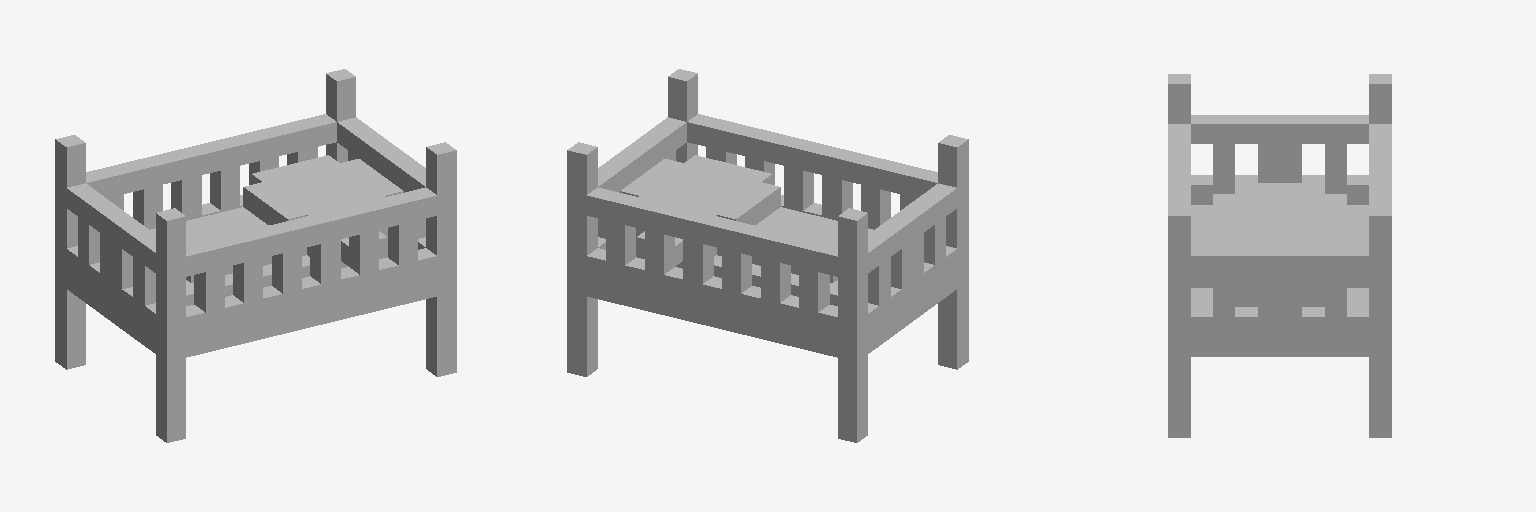
Rendered from obj_cradle_baby.obj.
3 views of the same model, side by side, from view 1: azimuth 30°, elevation 25°; view 2: azimuth 150°, elevation 25°; view 3: azimuth 270°, elevation 25° (orthographic).
Visible parts, largest first — view 1: obj_cradle_baby; view 2: obj_cradle_baby; view 3: obj_cradle_baby.
Boxes of the visible parts, x1,y1,x2,y2 form: obj_cradle_baby: [55, 69, 456, 442]; obj_cradle_baby: [567, 69, 968, 442]; obj_cradle_baby: [1168, 74, 1391, 437].
Size of the model in its own units: 15 by 11 by 10.